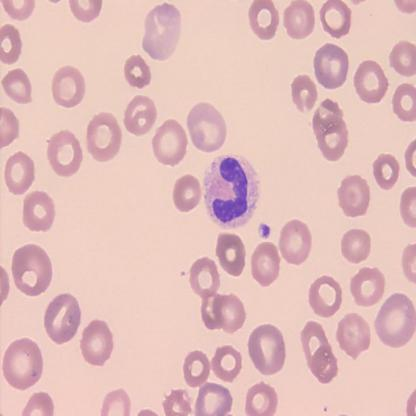Segmented neutrophil: (202, 150, 262, 232)
